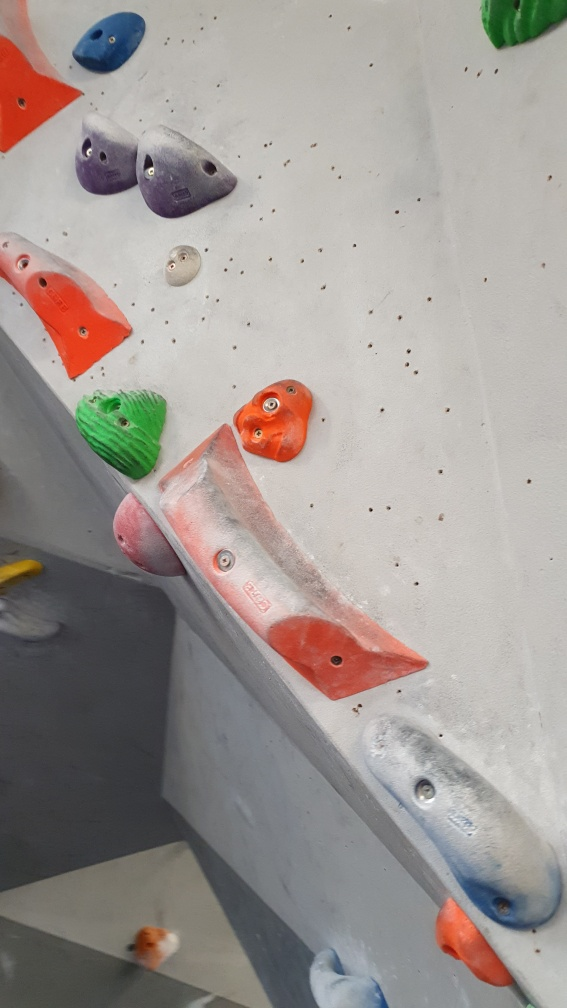Crimp: (75, 12, 149, 73)
Jug: (138, 122, 241, 219), (72, 386, 173, 473), (298, 943, 390, 1007), (73, 112, 141, 195)
Pinch: (154, 419, 435, 699), (360, 706, 562, 930), (1, 217, 131, 377), (3, 1, 85, 160)
Sloper: (111, 489, 192, 580)
